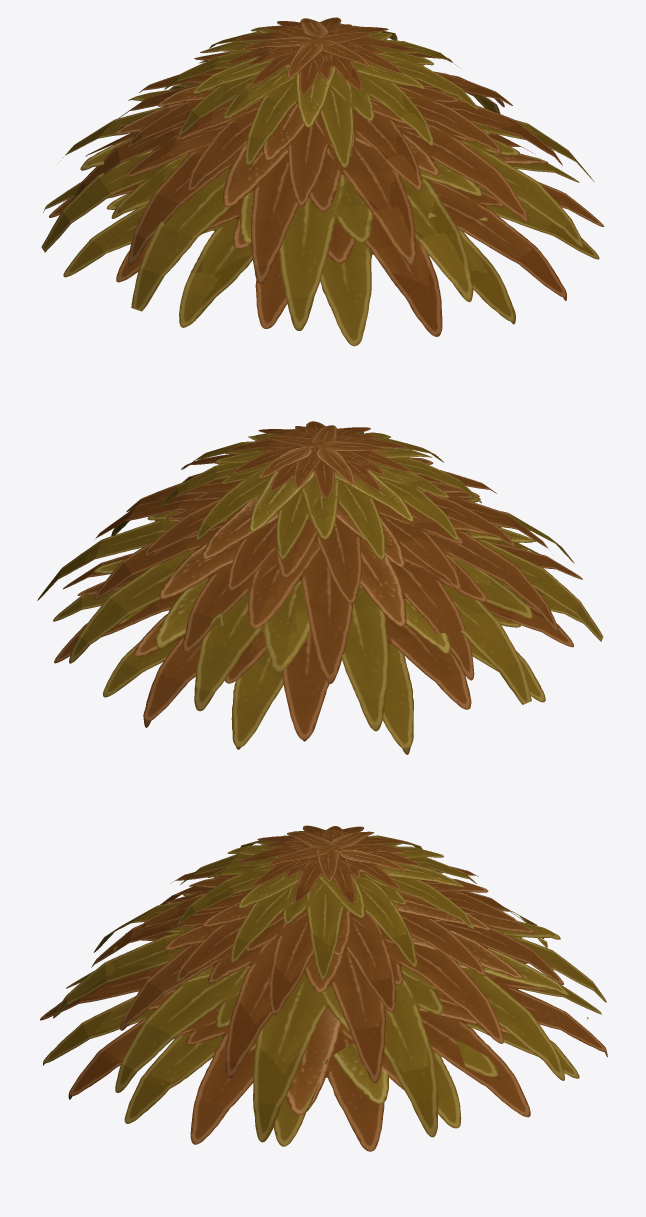
File: Bush07.glb
3 renders of one model, top to bottom at view 1: azimuth 30°, elevation 25°; view 2: azimuth 150°, elevation 25°; view 3: azimuth 270°, elevation 25°, orthographic.
Visible parts, largest first — view 1: Bush07; view 2: Bush07; view 3: Bush07.
Boxes of the visible parts, x1=… form: Bush07: x1=41, y1=17, x2=604, y2=346; Bush07: x1=37, y1=421, x2=603, y2=754; Bush07: x1=40, y1=825, x2=607, y2=1151.
Size of the model in its own units: 1.95 by 0.7855 by 1.96.
Materials: 1 (1 with a texture image).
